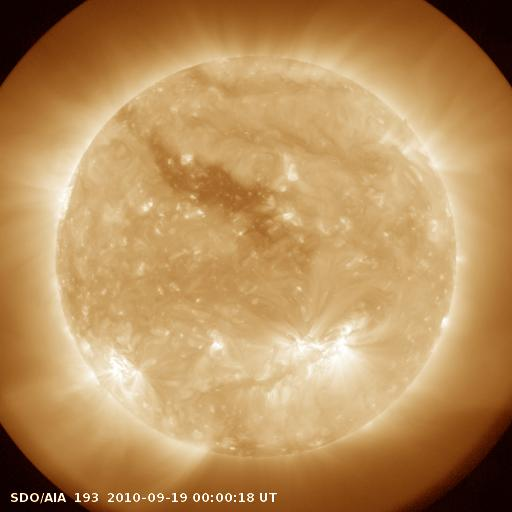coronal_hole: (147, 130, 278, 239)
